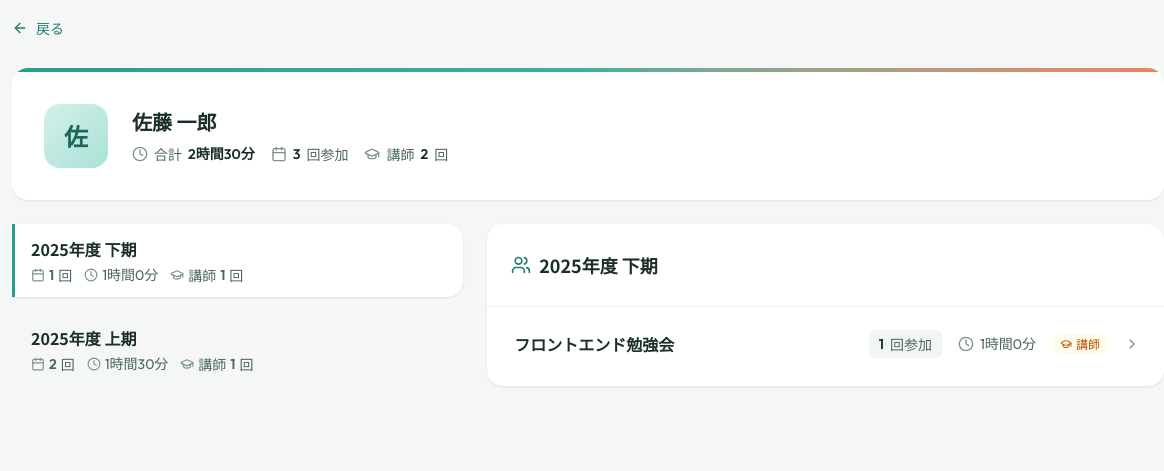
Test: MemberDetailPage › 講師バッジ › 期を切り替えると講師バッジの表示が切り替わること
The width and height of the screenshot is (1164, 471).
Check: the heading "佐藤 一郎" is shown, box [132, 107, 216, 136]
// 上期ボタンをクリックして切り替え
Click the button "2025年度 上期 2 回 1時間30分 講師 1 回" at (84, 338), box [12, 313, 463, 386]
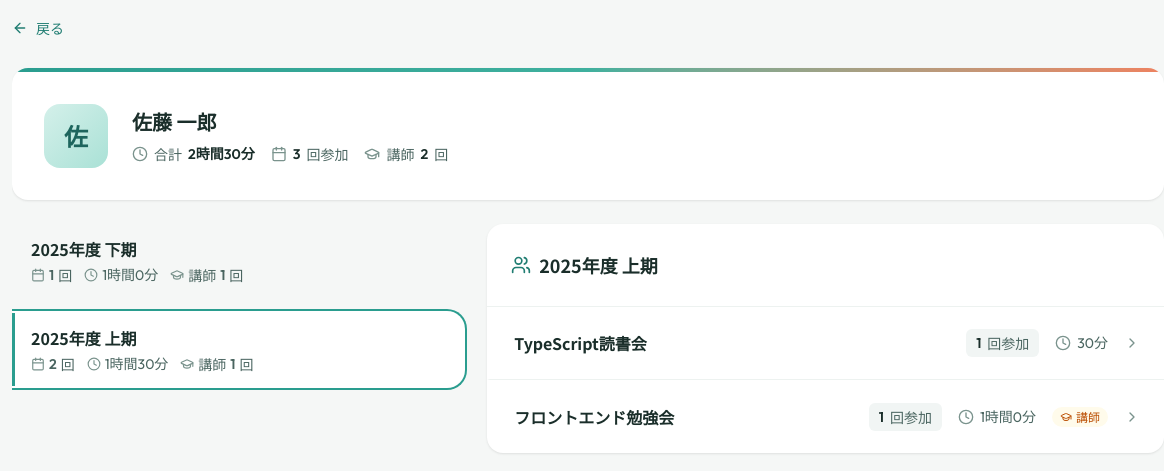
Check: the heading "フロントエンド勉強会" is shown, box [514, 404, 674, 428]
Check: the heading "TypeScript読書会" is shown, box [514, 331, 647, 355]
